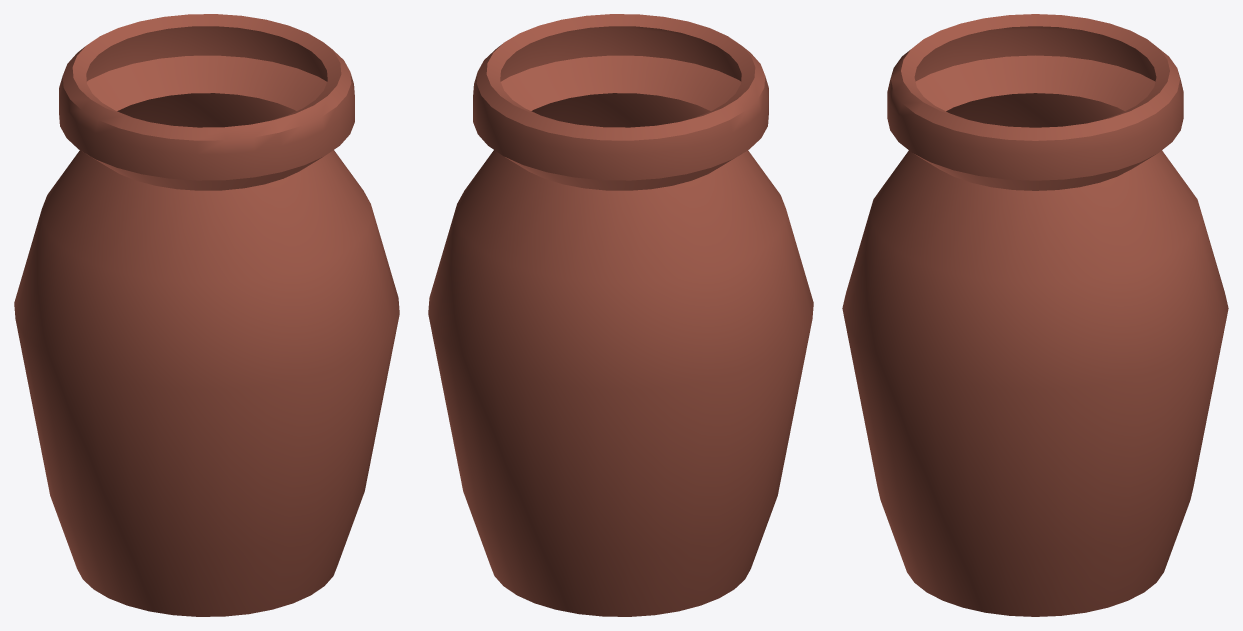
Rendered from pot.fbx.
3 renders of one model, left to right at view 1: azimuth 30°, elevation 25°; view 2: azimuth 150°, elevation 25°; view 3: azimuth 270°, elevation 25°, orthographic.
Visible parts, largest first — view 1: Circle; view 2: Circle; view 3: Circle.
Boxes of the visible parts, x1,y1,x2,y2 form: Circle: (14,14,399,616); Circle: (428,14,813,616); Circle: (842,14,1228,616).
Bounding box in the file's own units: 295 × 413 × 295.
